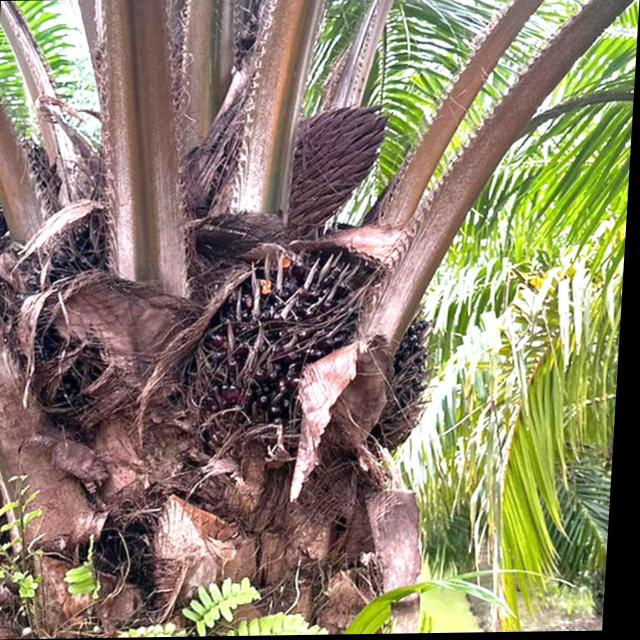ripe: (203, 241, 446, 431)
